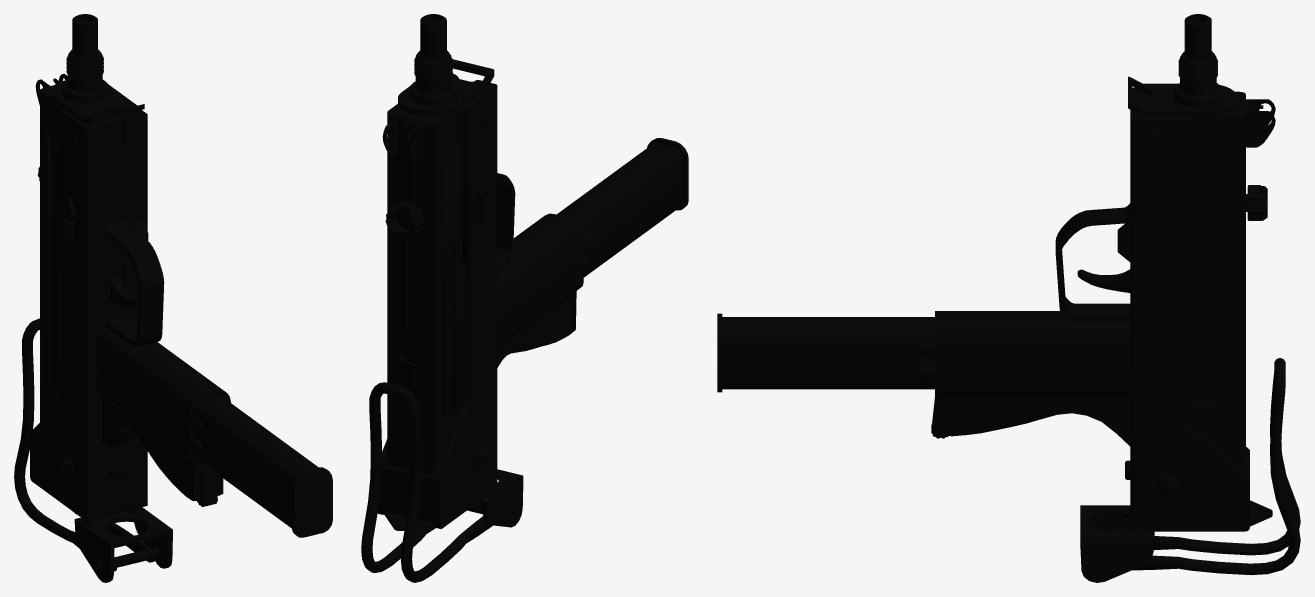
The model's file is MAC10.fbx.
The picture shows the model from 3 angles, left to right: view 1: azimuth 30°, elevation 25°; view 2: azimuth 150°, elevation 25°; view 3: azimuth 270°, elevation 25°; orthographic projection. The views are drawn at different scales.
Parts seen in each view (by area): view 1: asset_MAC10.001; view 2: asset_MAC10.001; view 3: asset_MAC10.001.
Boxes of the visible parts, bbox=[...] form: asset_MAC10.001: bbox=[14, 14, 332, 582]; asset_MAC10.001: bbox=[361, 14, 688, 582]; asset_MAC10.001: bbox=[717, 14, 1300, 582].
Size of the model in its own units: 0.0267 by 0.18 by 0.1736.
